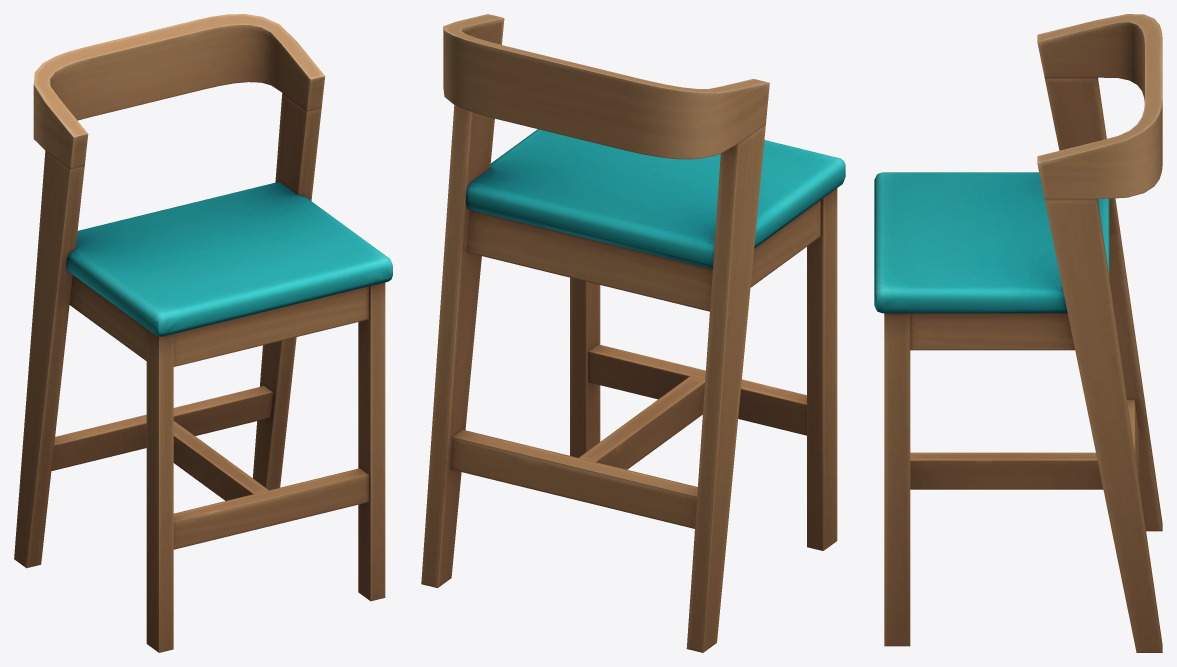
Rendered from NotQuiteOrbitalSitting.fbx.
3 renders of one model, left to right at view 1: azimuth 30°, elevation 25°; view 2: azimuth 150°, elevation 25°; view 3: azimuth 270°, elevation 25°, orthographic. The views are drawn at different scales.
Visible parts, largest first — view 1: TinyLiving_NotQuiteOrbitalSitting; view 2: TinyLiving_NotQuiteOrbitalSitting; view 3: TinyLiving_NotQuiteOrbitalSitting.
Part boxes in pixels (x1,y1,x2,y2): TinyLiving_NotQuiteOrbitalSitting: [14, 14, 392, 652]; TinyLiving_NotQuiteOrbitalSitting: [421, 14, 845, 652]; TinyLiving_NotQuiteOrbitalSitting: [874, 14, 1162, 652].
Size of the model in its own units: 55 by 103 by 51.93.
